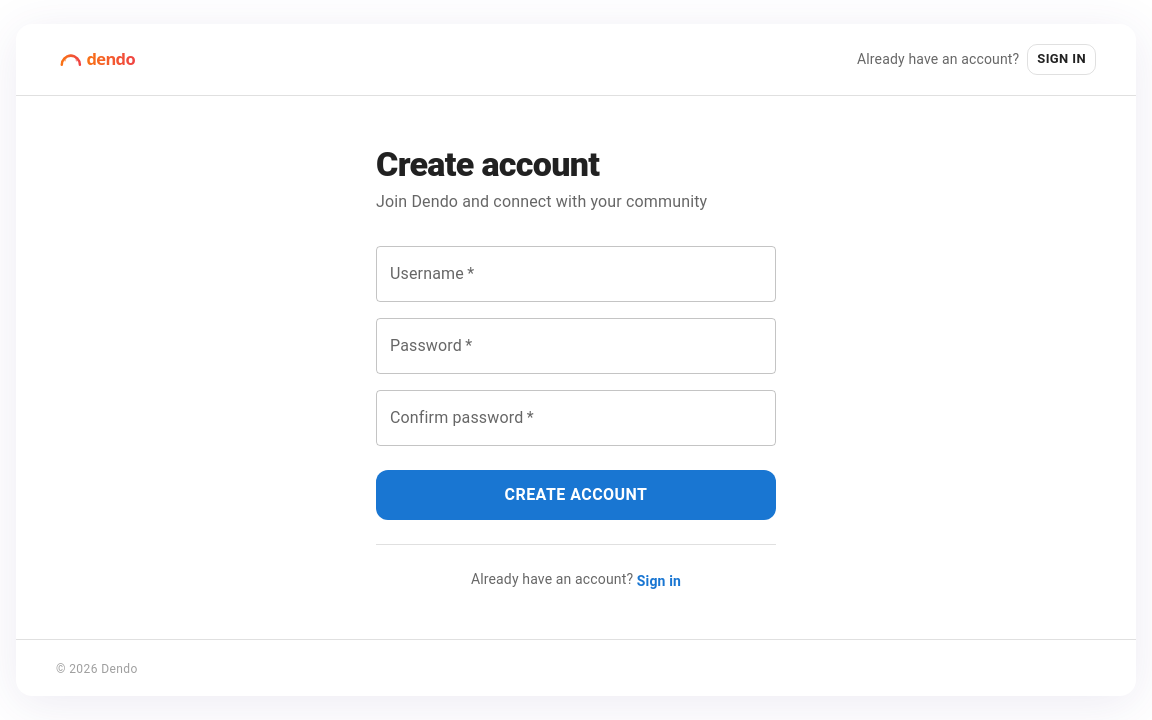
Test case: SignupPage › shows error when passwords do not match
Type "newuser" into the field labelled "Username *". click: (576, 274)
box: [376,246,776,302]
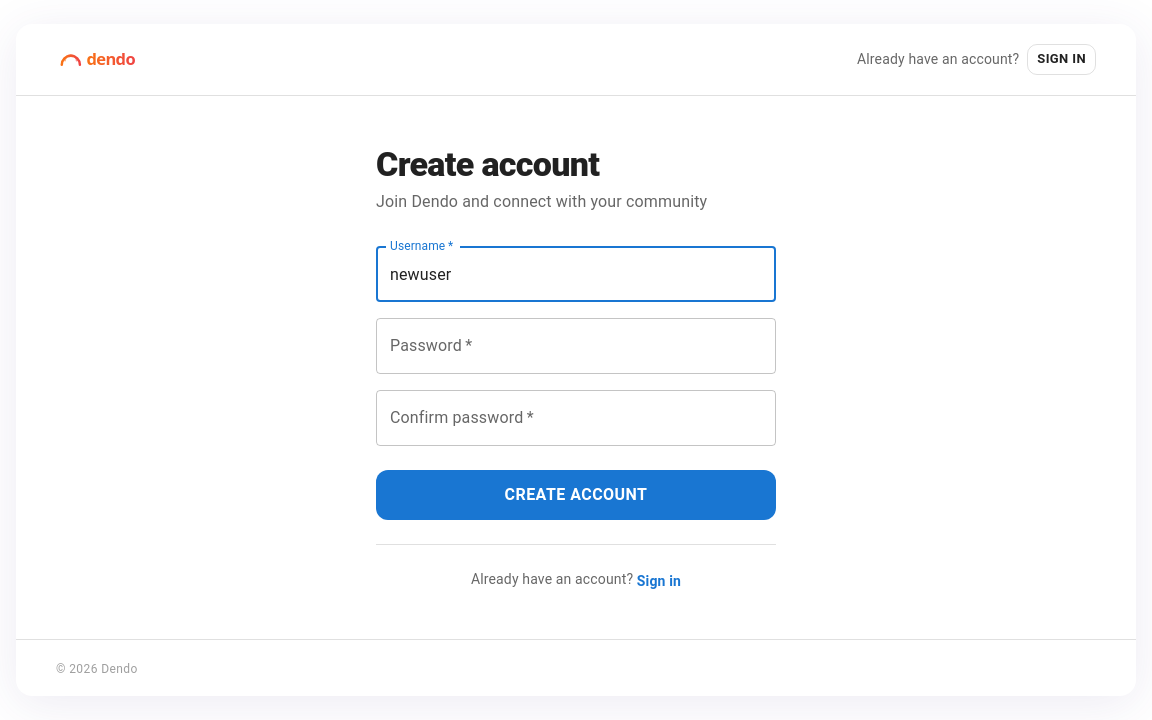
Type "secret123" into the password field labelled "Password *". click: (576, 346)
box: [376,318,776,374]
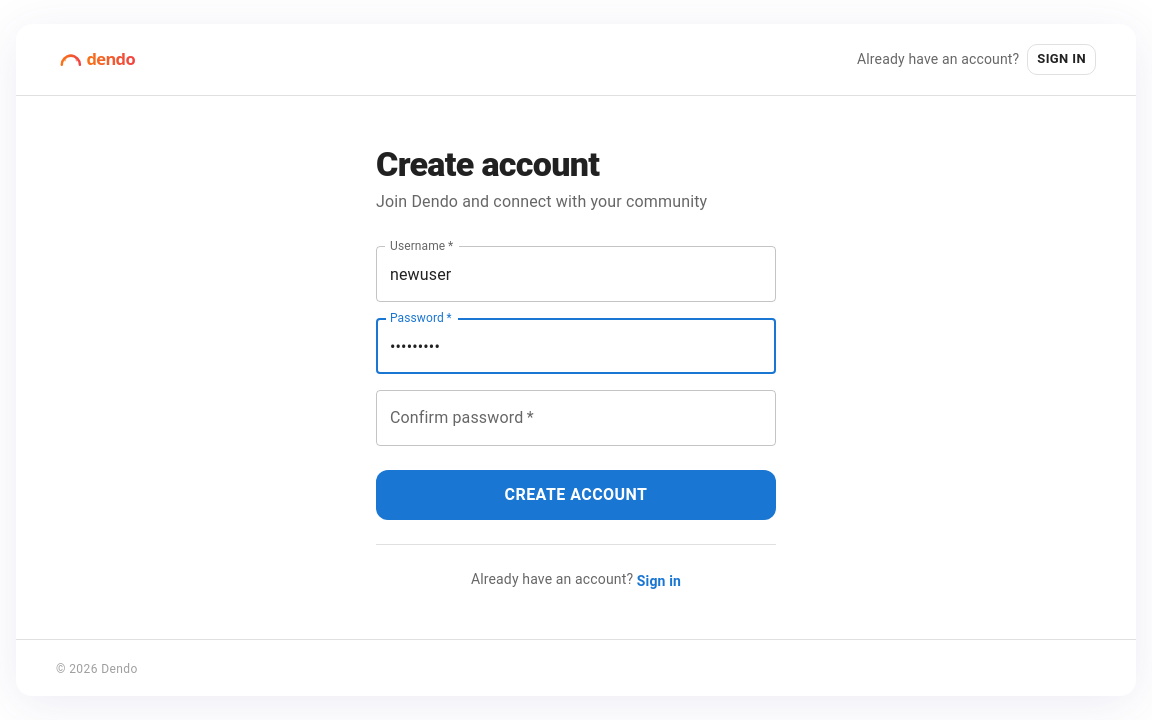
Type "different" into the password field labelled "Confirm password *". click: (576, 418)
box: [376,390,776,446]
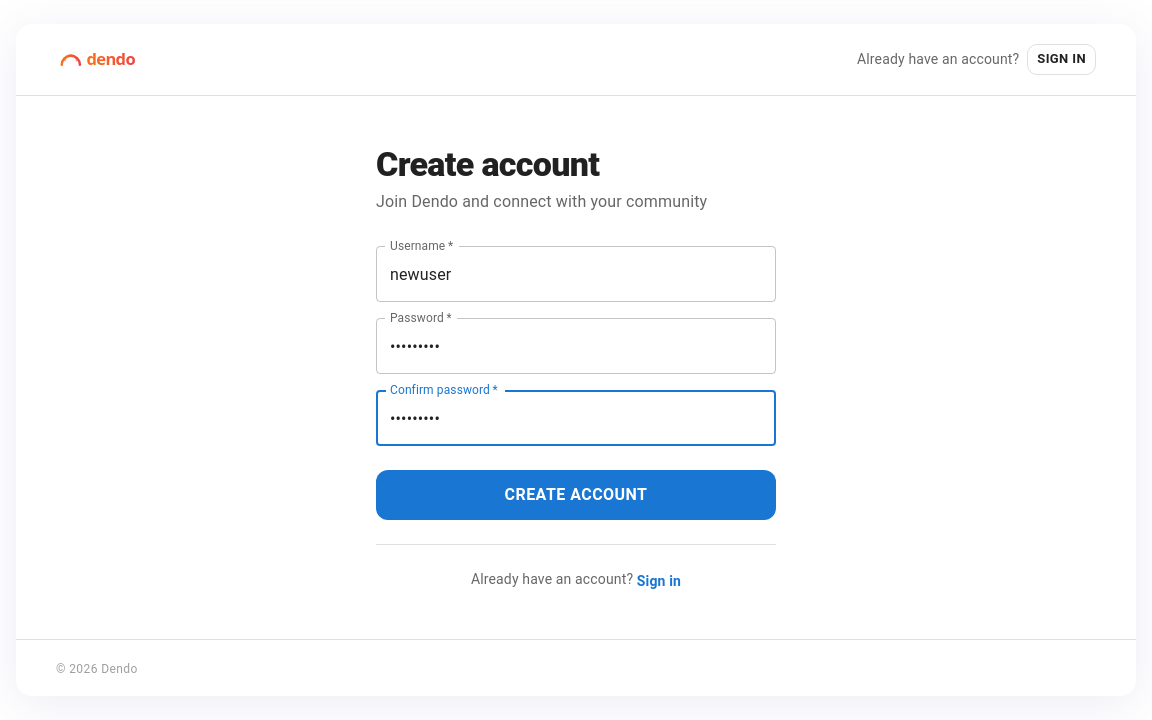
Click the button "Create account". click: (576, 495)
box: [376,470,776,520]
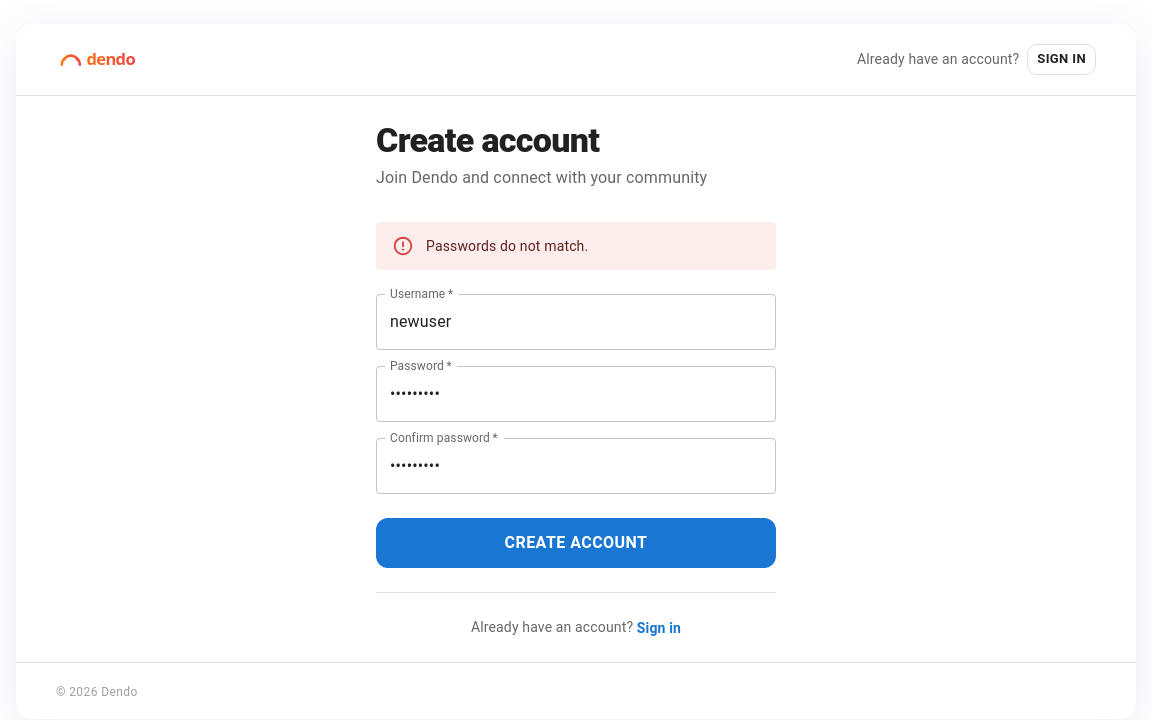
Expected: the text "Passwords do not match." is shown, [426,238,588,254]
